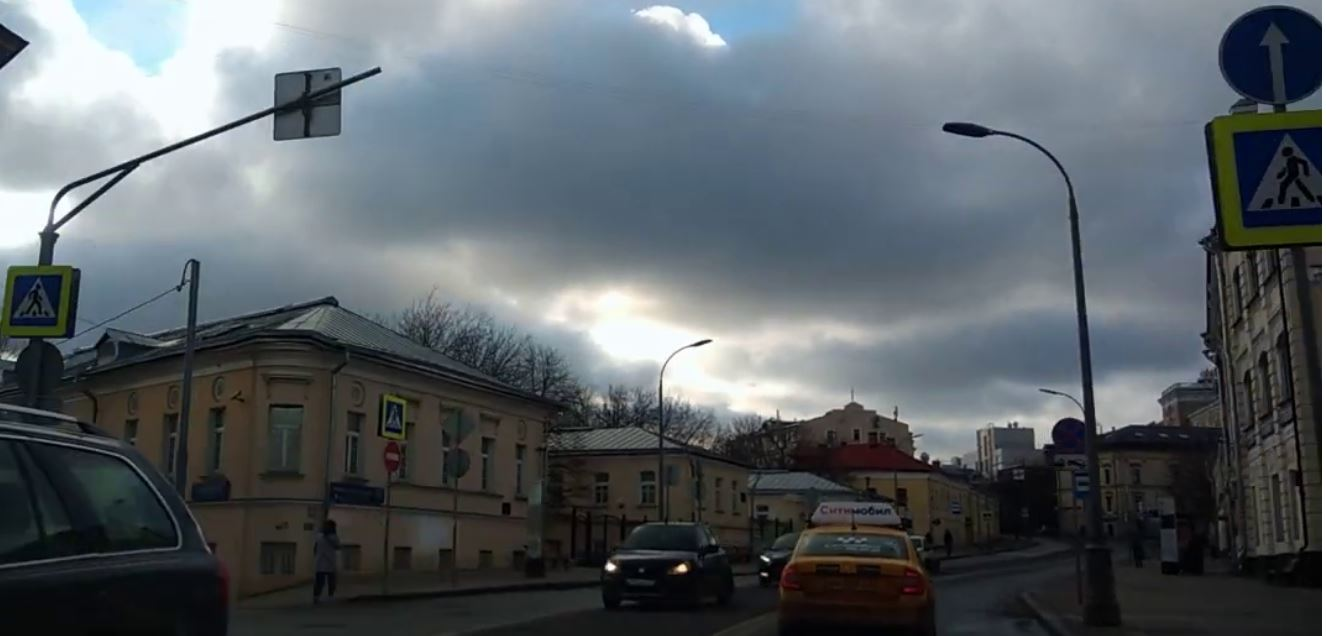Yaya Gecidi: (1231, 127, 1326, 234), (12, 272, 67, 320)
